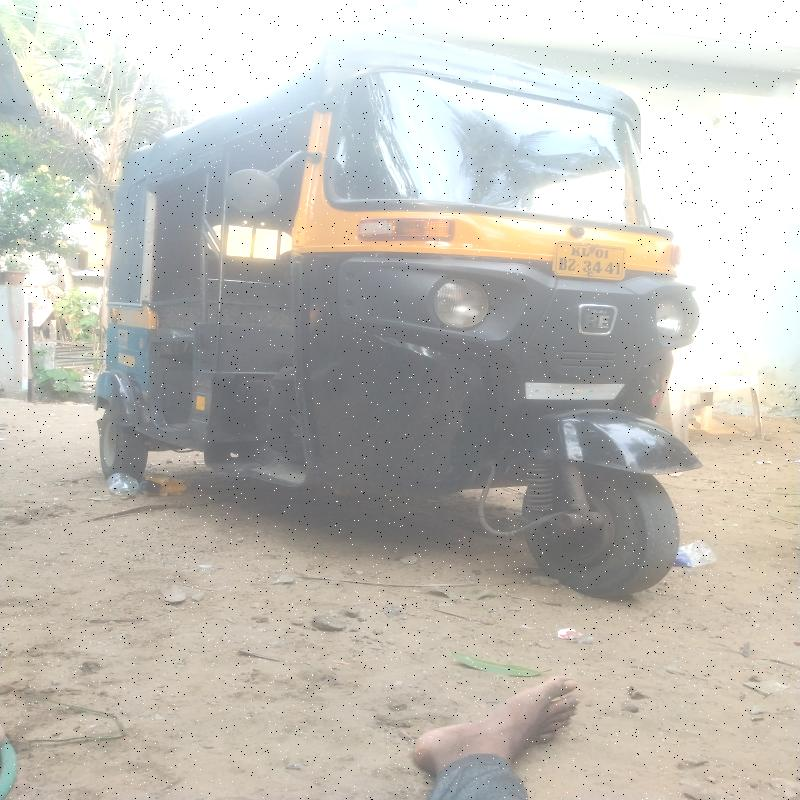auto: (129, 38, 743, 588)
